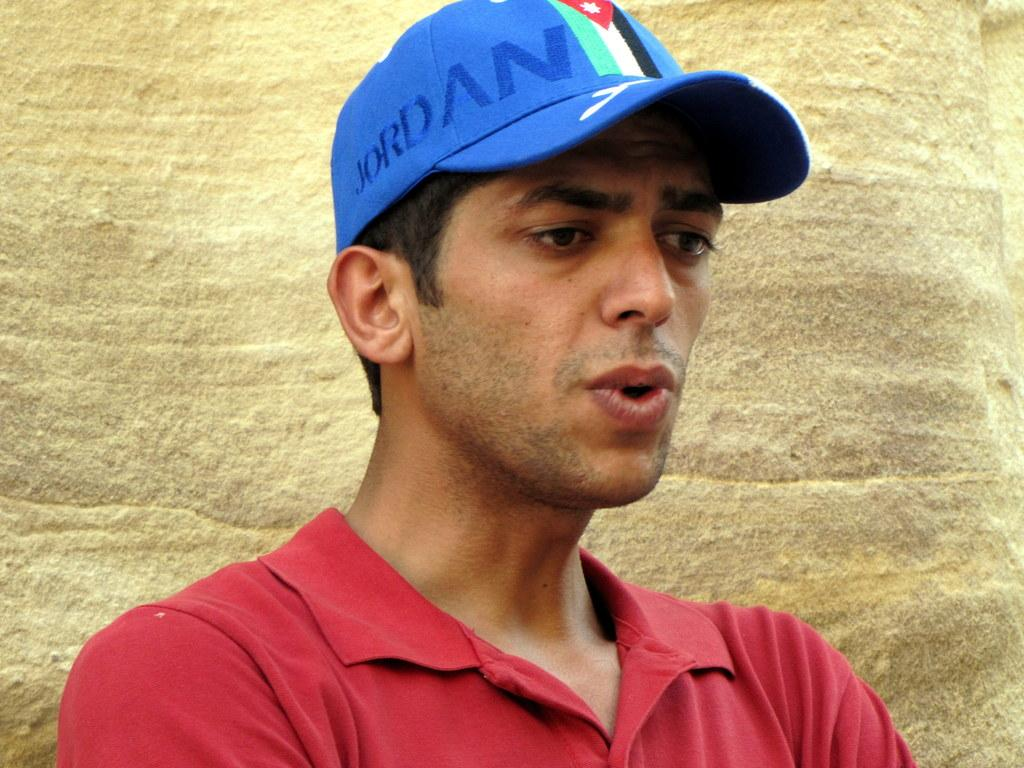Hat: (332, 0, 812, 262)
